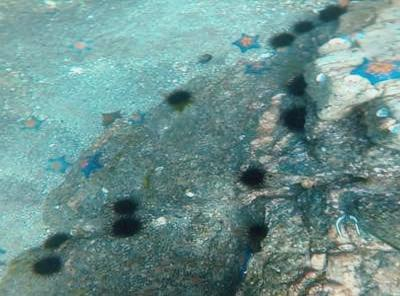urchin: (30, 255, 67, 277), (111, 215, 146, 238), (236, 164, 268, 187), (283, 103, 308, 131), (110, 196, 144, 214), (43, 230, 73, 250), (319, 3, 347, 23), (165, 88, 196, 106), (286, 73, 309, 96), (270, 31, 298, 49), (248, 222, 270, 242), (294, 19, 315, 34)
